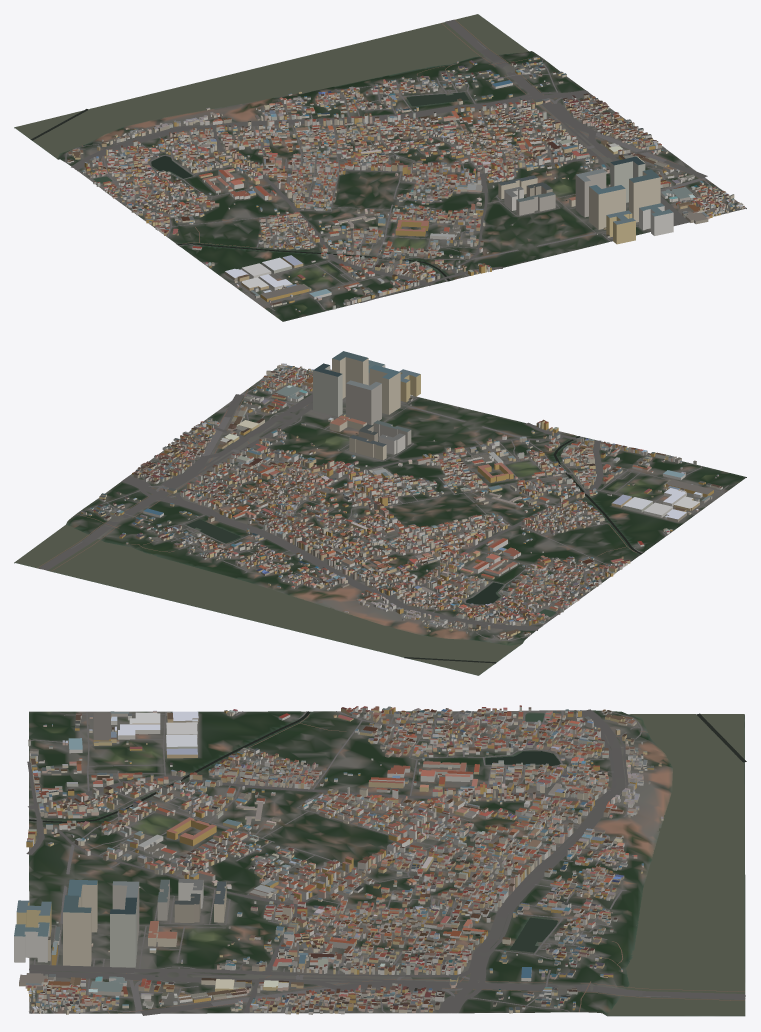
3 views of the same model, one above another, from view 1: azimuth 30°, elevation 25°; view 2: azimuth 150°, elevation 25°; view 3: azimuth 270°, elevation 25° (orthographic). The views are drawn at different scales.
Parts seen in each view (by area): view 1: buildings, ground, water, roads; view 2: buildings, ground, water, roads; view 3: buildings, ground, water, roads.
Boxes of the visible parts, bbox=[...] form: buildings: bbox=[67, 56, 744, 312]; ground: bbox=[14, 14, 746, 321]; water: bbox=[15, 14, 567, 280]; roads: bbox=[65, 19, 745, 310]; buildings: bbox=[81, 351, 722, 639]; ground: bbox=[14, 365, 746, 675]; water: bbox=[15, 433, 642, 675]; roads: bbox=[37, 369, 728, 640]; buildings: bbox=[14, 705, 663, 1014]; ground: bbox=[29, 710, 745, 1016]; water: bbox=[29, 711, 746, 1015]; roads: bbox=[26, 709, 745, 1015].
Size of the model in its own units: 1416 by 125 by 1435.
